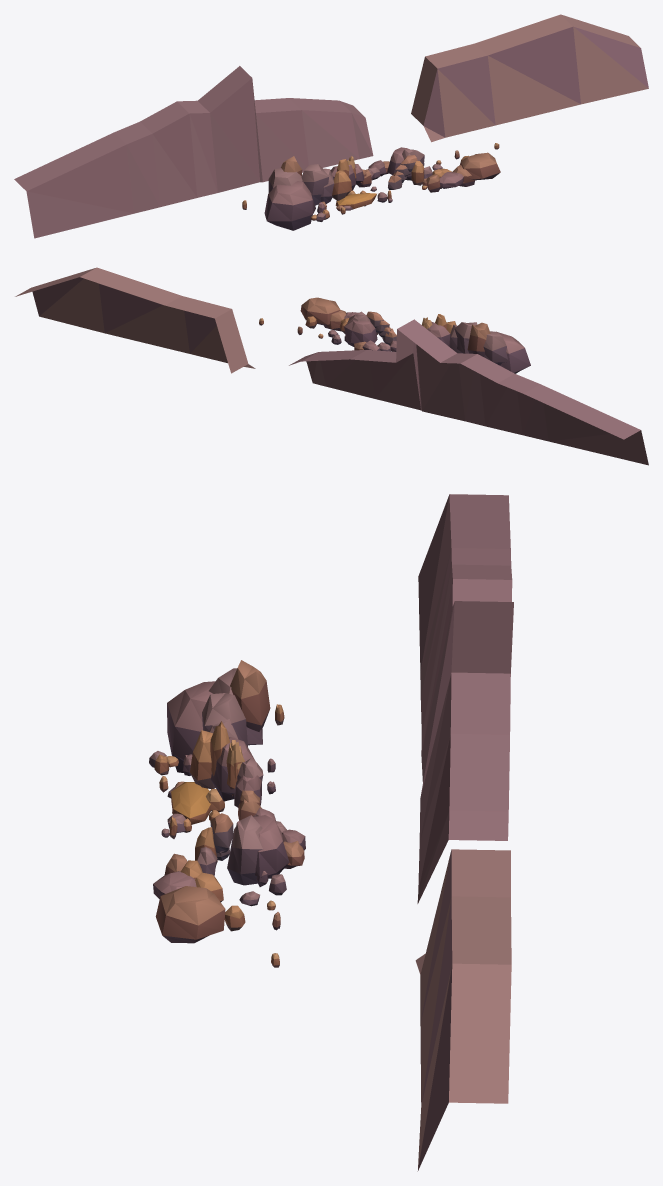
File: canyon.glb
3 renders of one model, top to bottom at view 1: azimuth 30°, elevation 25°; view 2: azimuth 150°, elevation 25°; view 3: azimuth 270°, elevation 25°, orthographic. The views are drawn at different scales.
Parts seen in each view (by area): view 1: canyon; view 2: canyon; view 3: canyon.
Boxes of the visible parts, x1,y1,x2,y2 form: canyon: (14, 14, 648, 238); canyon: (15, 267, 648, 465); canyon: (149, 494, 513, 1171).
Bounding box in the file's own units: 100 × 15.36 × 25.83.
